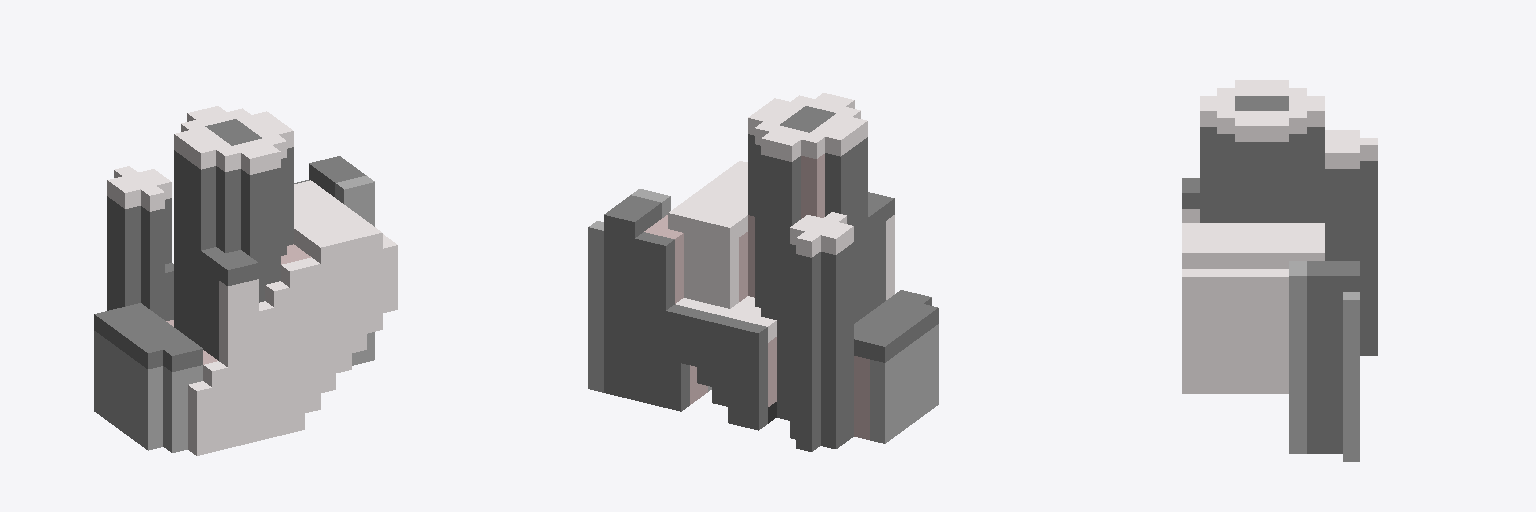
3 views of the same model, side by side, from view 1: azimuth 30°, elevation 25°; view 2: azimuth 150°, elevation 25°; view 3: azimuth 270°, elevation 25° (orthographic).
Parts seen in each view (by area): view 1: ObjObject; view 2: ObjObject; view 3: ObjObject.
Part boxes in pixels (bbox=[...]): ObjObject: bbox=[94, 106, 397, 455]; ObjObject: bbox=[588, 93, 938, 451]; ObjObject: bbox=[1182, 80, 1377, 461].
Size of the model in its own units: 1.8 by 1.7 by 1.1.
1 materials, 1 textured.